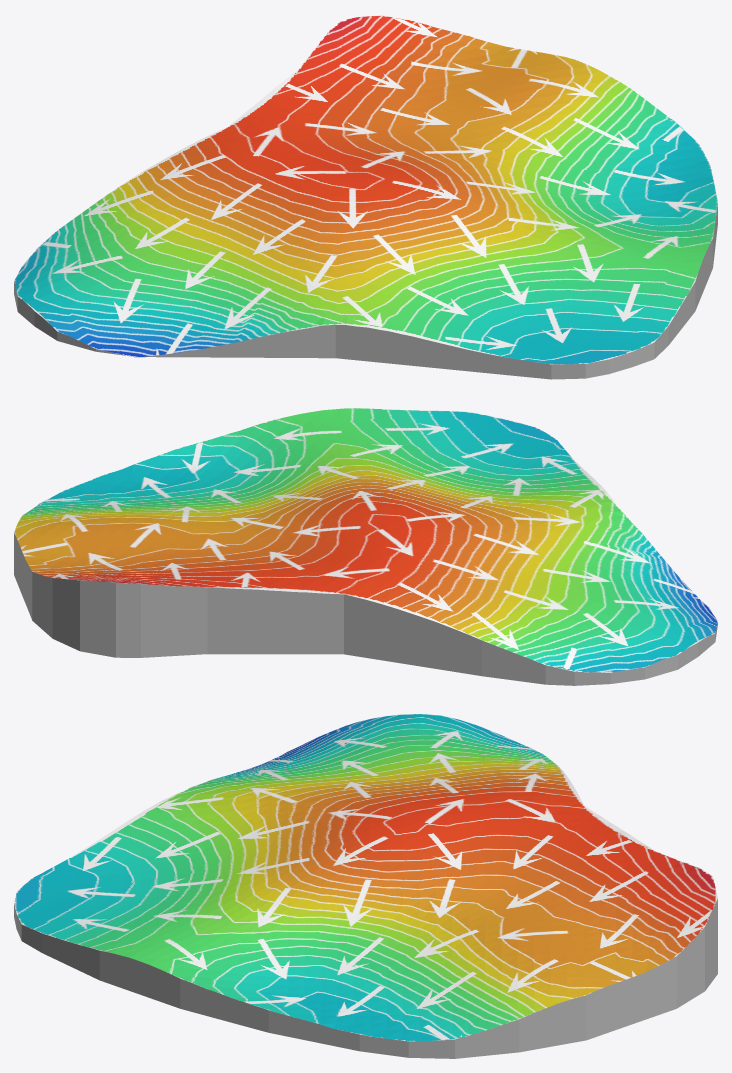
The picture shows the model from 3 angles, top to bottom: view 1: azimuth 30°, elevation 25°; view 2: azimuth 150°, elevation 25°; view 3: azimuth 270°, elevation 25°; orthographic projection. The views are drawn at different scales.
Bounding box in the file's own units: 4.51 × 0.5138 × 4.08.
Materials: 2 (1 with a texture image).
